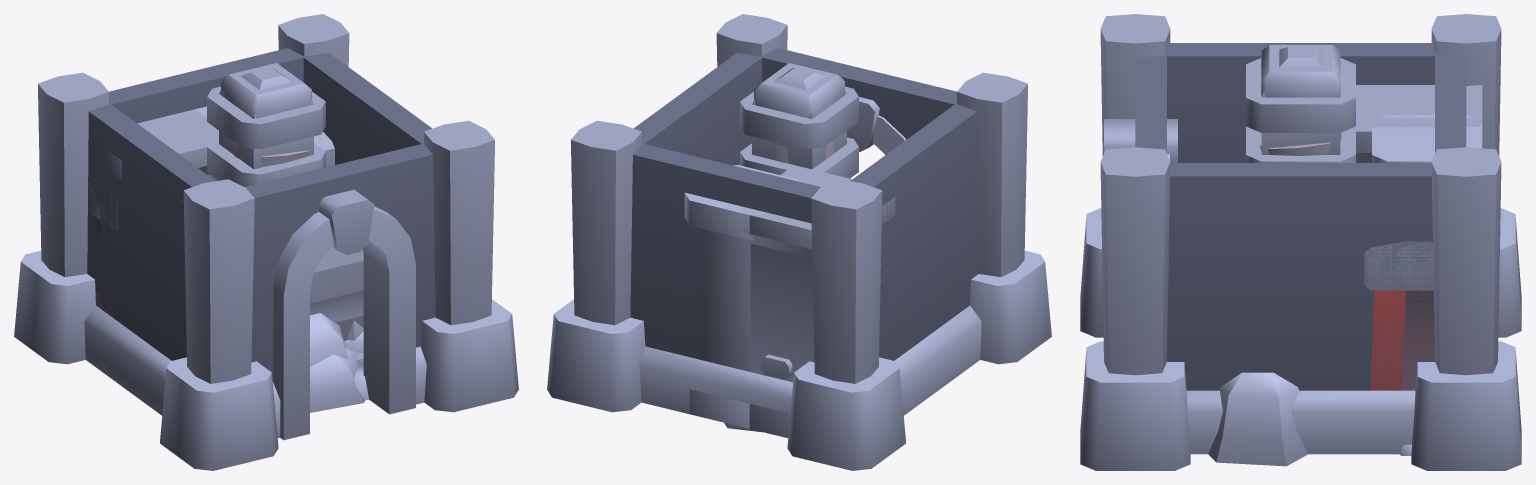
Rendered from ruinas.glb.
The picture shows the model from 3 angles, left to right: view 1: azimuth 30°, elevation 25°; view 2: azimuth 150°, elevation 25°; view 3: azimuth 270°, elevation 25°; orthographic projection. The views are drawn at different scales.
Visible parts, largest first — view 1: crypt-small, pillar-square, altar-stone, column-large, brick-wall-end, rocks, rocks-tall, brick-wall; view 2: crypt-small, brick-wall-end, stone-wall-column, pillar-square, column-large; view 3: crypt-small, pillar-square, rocks, brick-wall, brick-wall-end, stone-wall-damaged, column-large, stone-wall-column.
Boxes of the visible parts, left/top/right/bottom form: crypt-small: left=14, top=14, right=518, bottom=470; pillar-square: left=207, top=67, right=325, bottom=186; altar-stone: left=310, top=247, right=363, bottom=366; column-large: left=221, top=63, right=311, bottom=166; brick-wall-end: left=101, top=109, right=334, bottom=179; rocks: left=310, top=320, right=364, bottom=412; rocks-tall: left=310, top=313, right=368, bottom=400; brick-wall: left=88, top=132, right=334, bottom=317; crypt-small: left=547, top=14, right=1051, bottom=470; brick-wall-end: left=740, top=170, right=895, bottom=438; stone-wall-column: left=684, top=165, right=799, bottom=428; pillar-square: left=740, top=67, right=858, bottom=178; column-large: left=754, top=63, right=844, bottom=163; crypt-small: left=1080, top=14, right=1521, bottom=470; pillar-square: left=1246, top=47, right=1355, bottom=162; rocks: left=1208, top=372, right=1411, bottom=466; brick-wall: left=1364, top=241, right=1434, bottom=390; brick-wall-end: left=1354, top=85, right=1482, bottom=162; stone-wall-damaged: left=1395, top=240, right=1434, bottom=390; column-large: left=1256, top=45, right=1341, bottom=155; stone-wall-column: left=1372, top=115, right=1482, bottom=162.
Bounding box in the file's own units: 1.35 × 1.2 × 1.4.
1 material, 1 textured.
